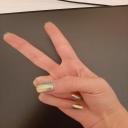PeaceSign: (3, 20, 118, 124)
